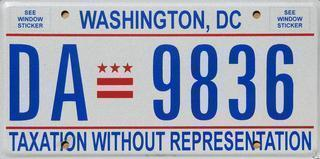placa de veiculo: (4, 0, 311, 154)
